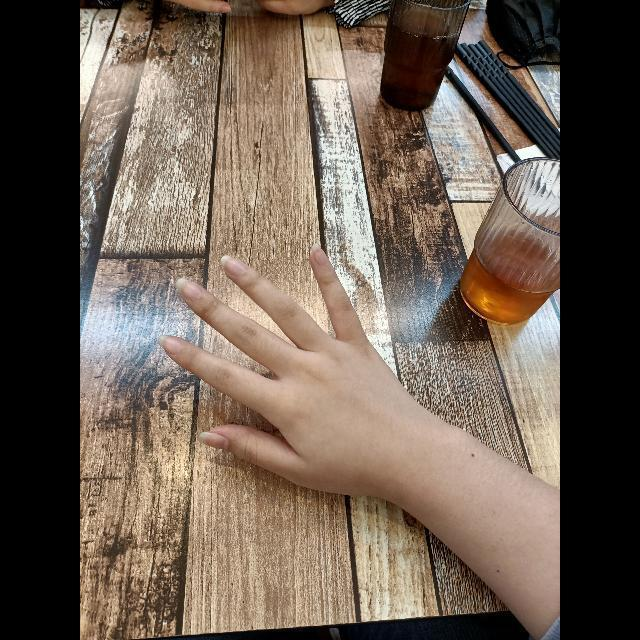bare_hand: (160, 244, 397, 506)
